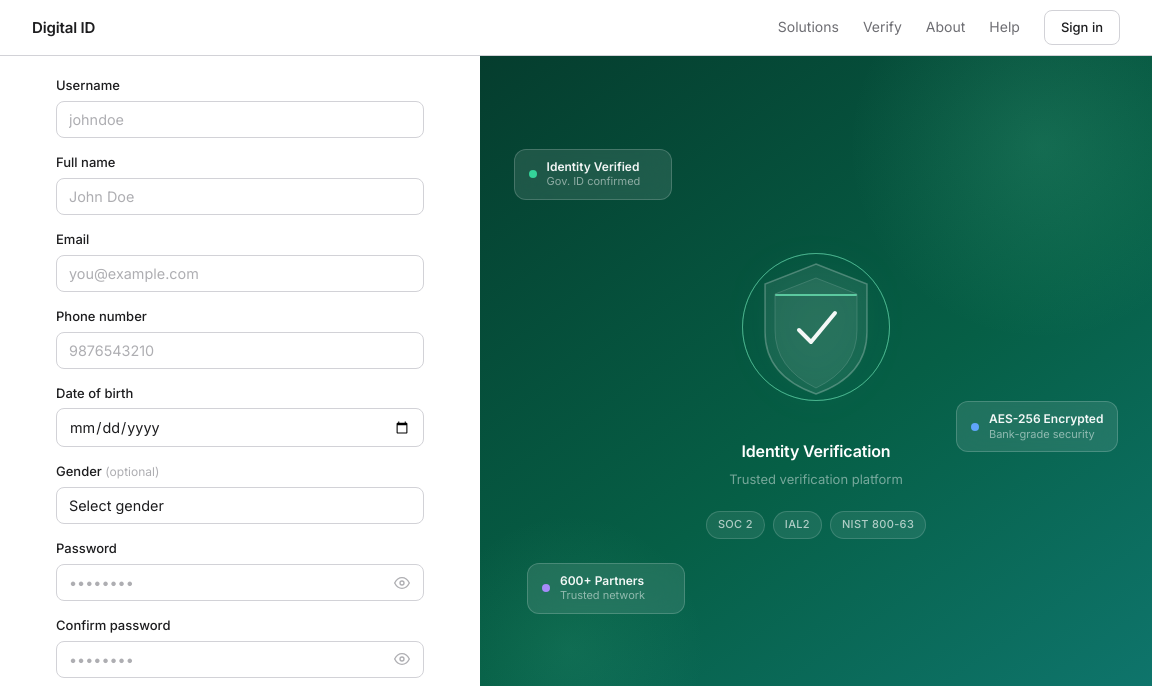
it: AuthScreen › Register mode › shows password checklist when typing in register form
# Checklist only renders once the user starts typing (and requirements are unmet)
Type "a" into the password field labelled "Password".
click(240, 582); type("a")  # box top-left (56, 564), bottom-right (424, 601)
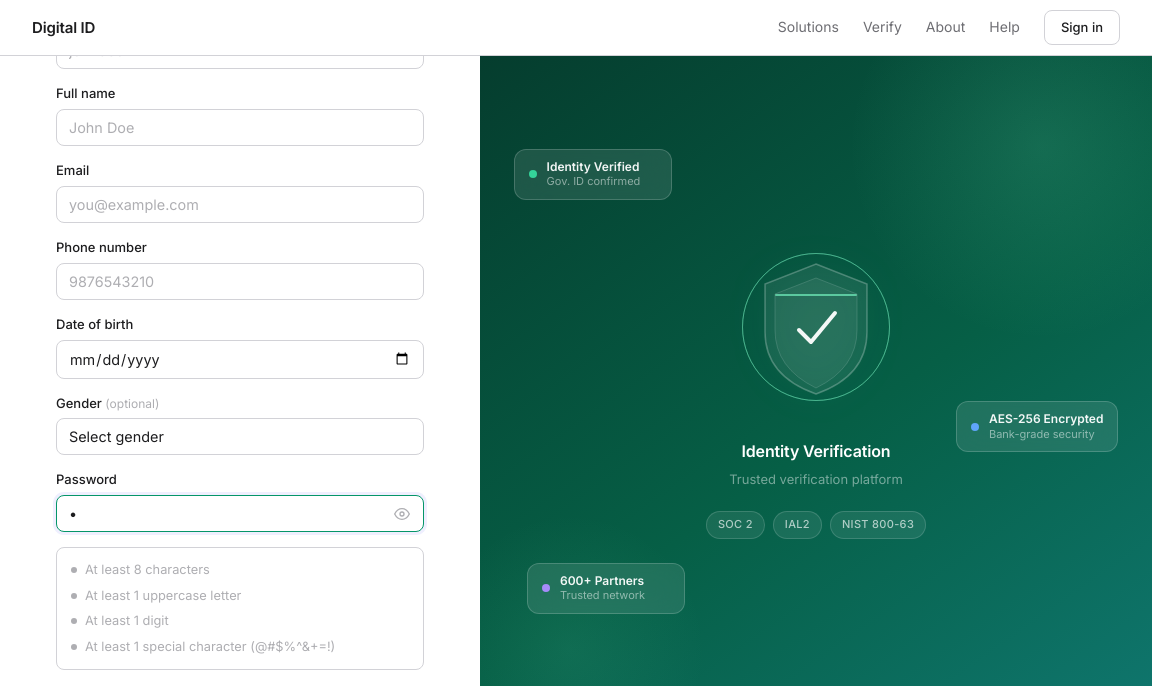
Result: the text "At least 8 characters" is shown at top-left (85, 560), bottom-right (210, 581)
Result: the text "At least 1 uppercase letter" is shown at top-left (85, 586), bottom-right (241, 606)
